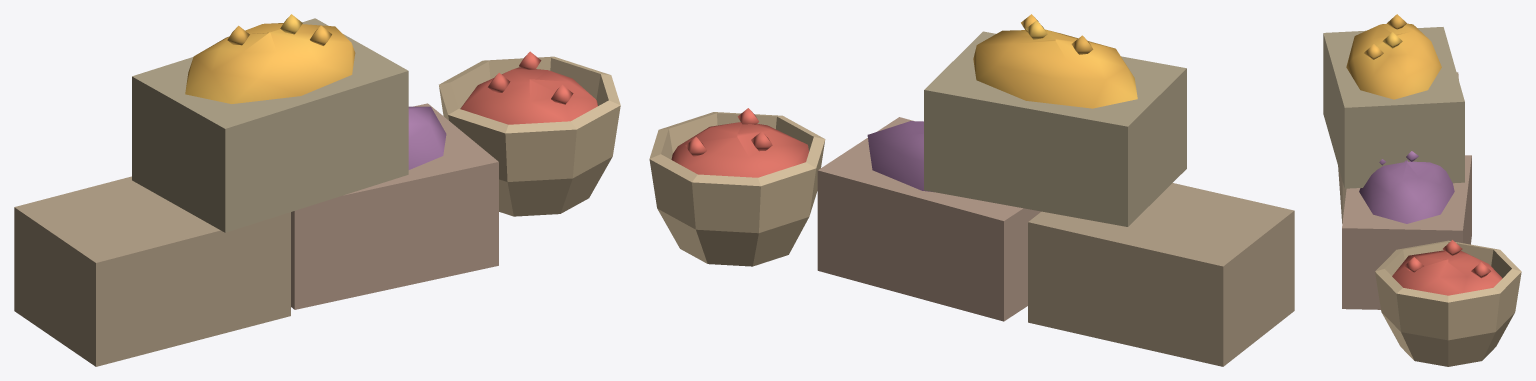
The model's file is SM_BM_BP_CrateStack.glb.
3 renders of one model, left to right at view 1: azimuth 30°, elevation 25°; view 2: azimuth 150°, elevation 25°; view 3: azimuth 270°, elevation 25°, orthographic. The views are drawn at different scales.
Parts seen in each view (by area): view 1: SM_BM_BP_CrateStack; view 2: SM_BM_BP_CrateStack; view 3: SM_BM_BP_CrateStack.
Boxes of the visible parts, x1,y1,x2,y2 form: SM_BM_BP_CrateStack: (14, 14, 620, 366); SM_BM_BP_CrateStack: (649, 14, 1294, 366); SM_BM_BP_CrateStack: (1323, 14, 1521, 366).
Size of the model in its own units: 1.67 by 0.7291 by 0.6222.
